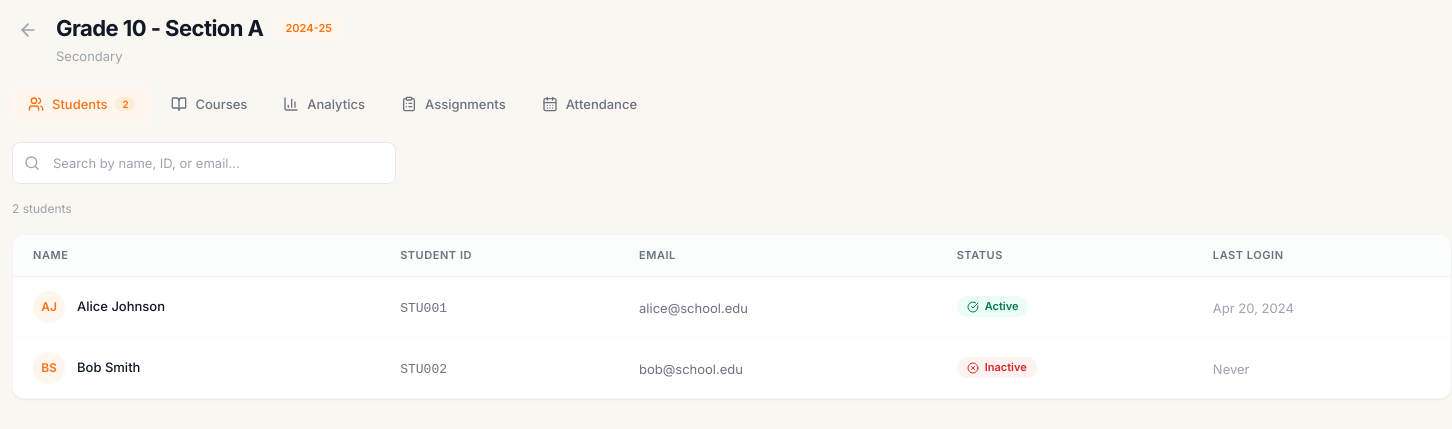
Test: SectionDashboardPage › shows empty courses state when no courses returned
Expected: the text "Alice Johnson" is shown, [77,297,165,316]
Click the tab "Courses".
click(209, 104)  # box [156,86,263,122]
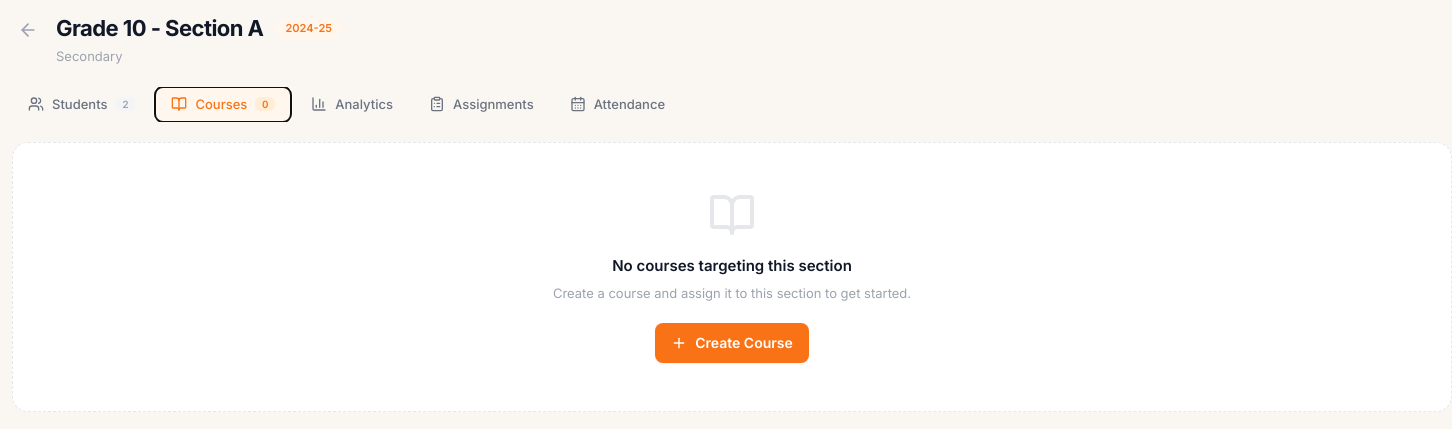
Expected: the heading "No courses targeting this section" is shown, [612,256,852,275]
